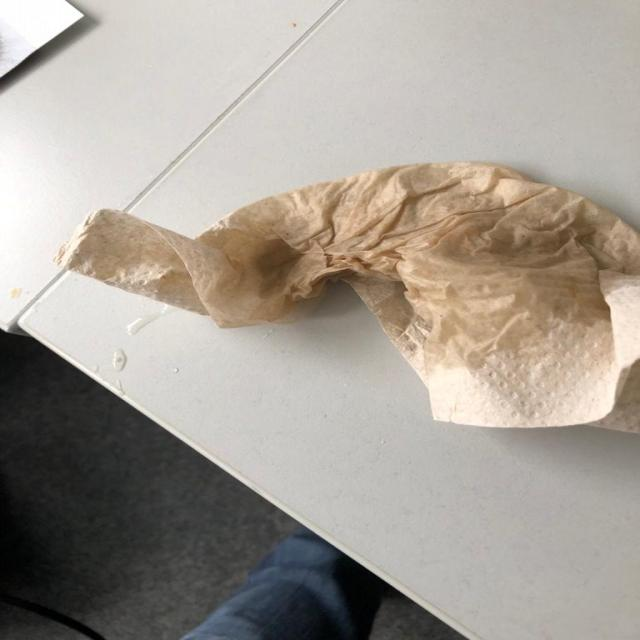kitchen paper: (46, 153, 640, 433)
